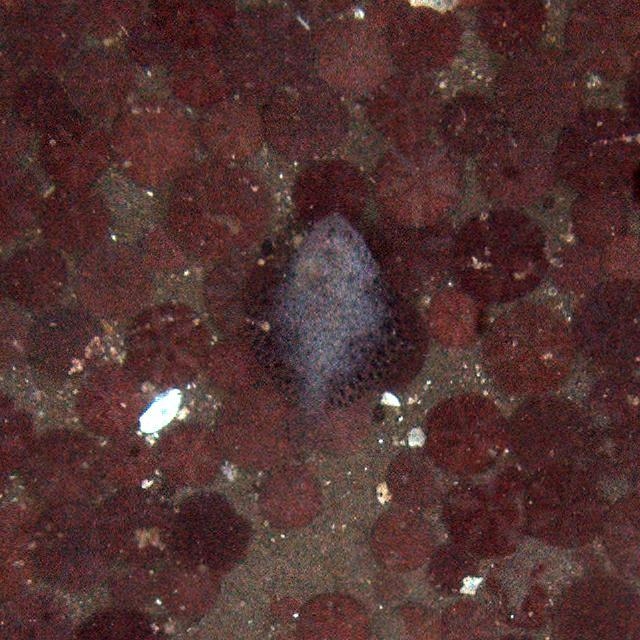flatfish: (252, 216, 398, 437)
